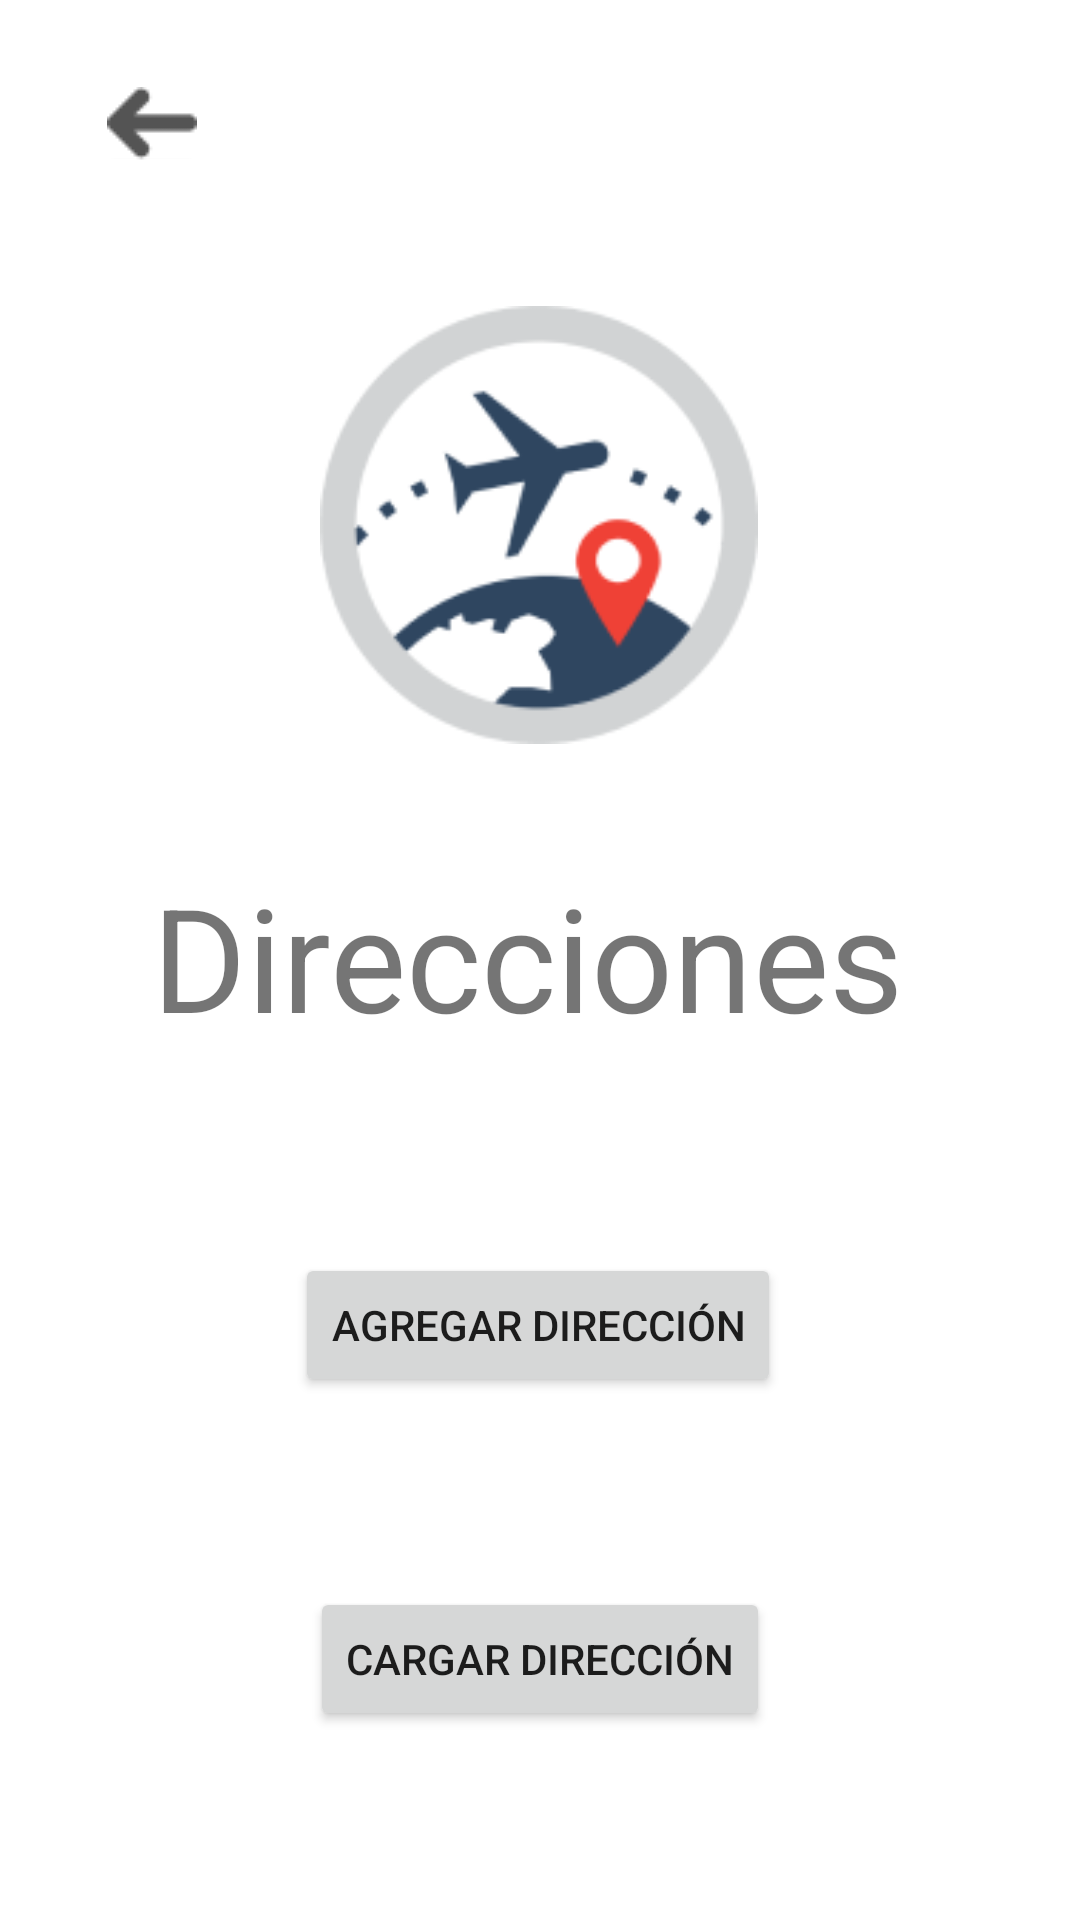

Named icons in this screenshot (1080x1920) and their centers, point (x, y):
flecha: point (152, 123)
